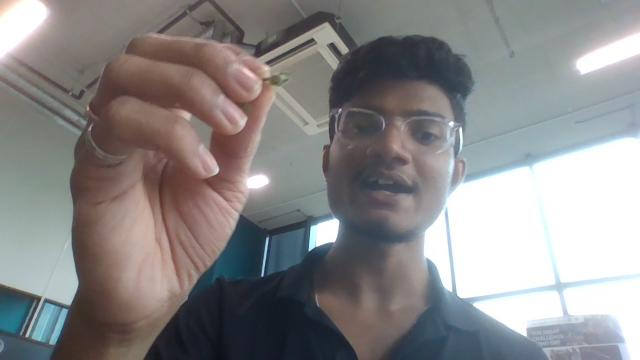Fruit Bud: (269, 71, 290, 90), (265, 73, 290, 87)
